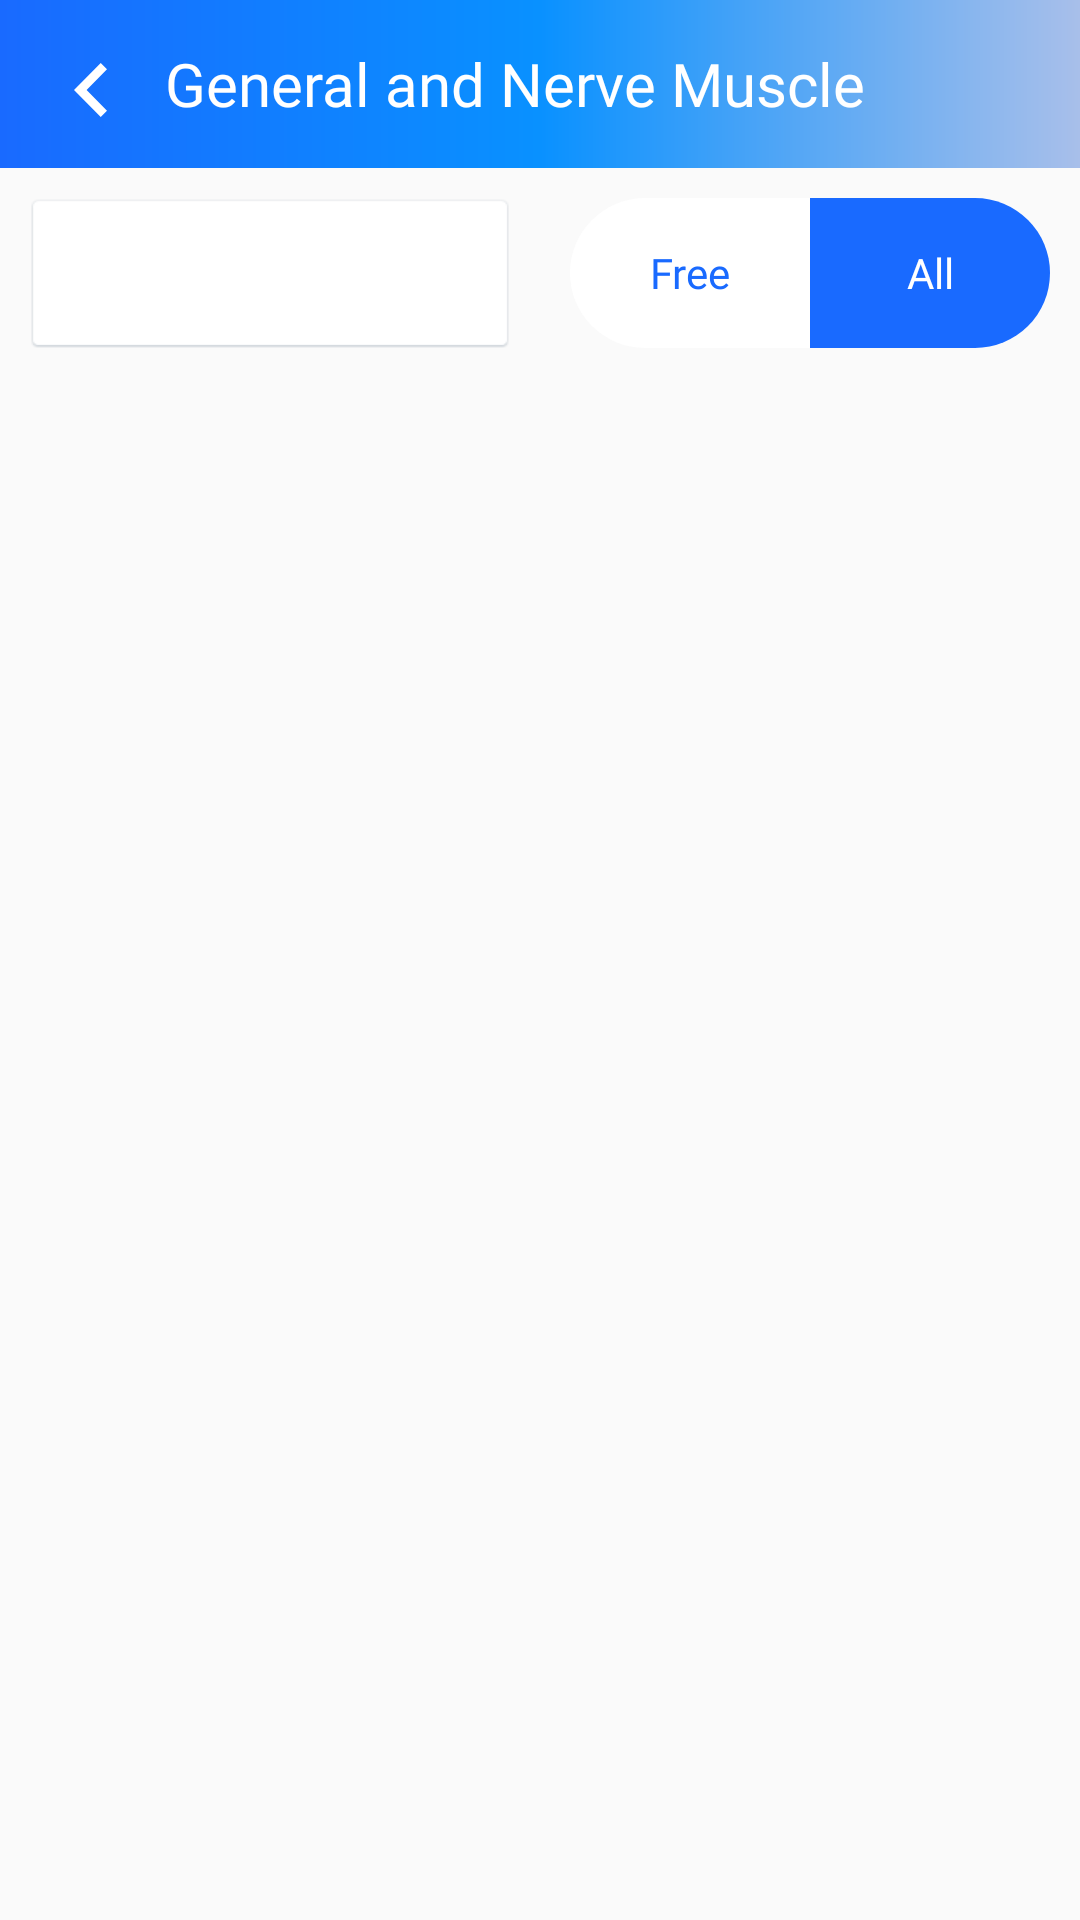

Screen size 1080 x 1920. Icon name, then its box in pixels as (x1, y1, x2, y2):
back arror: (74, 63, 107, 117)
